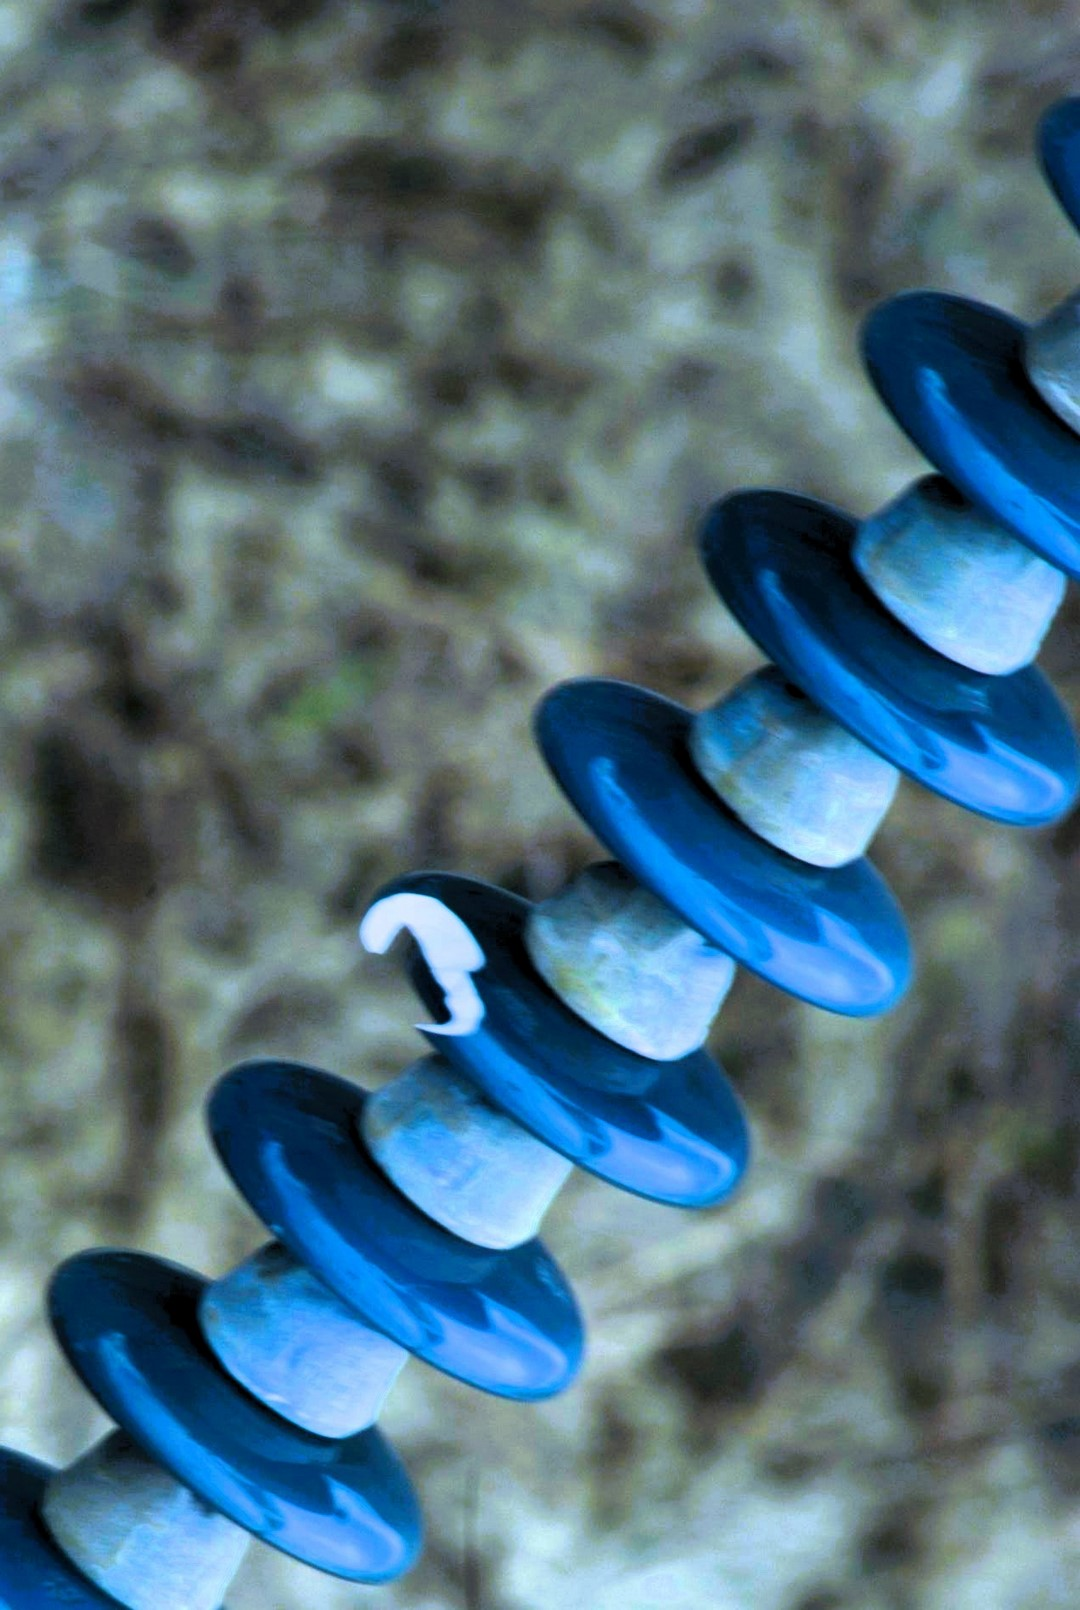insulator breakage: (345, 854, 779, 1234)
